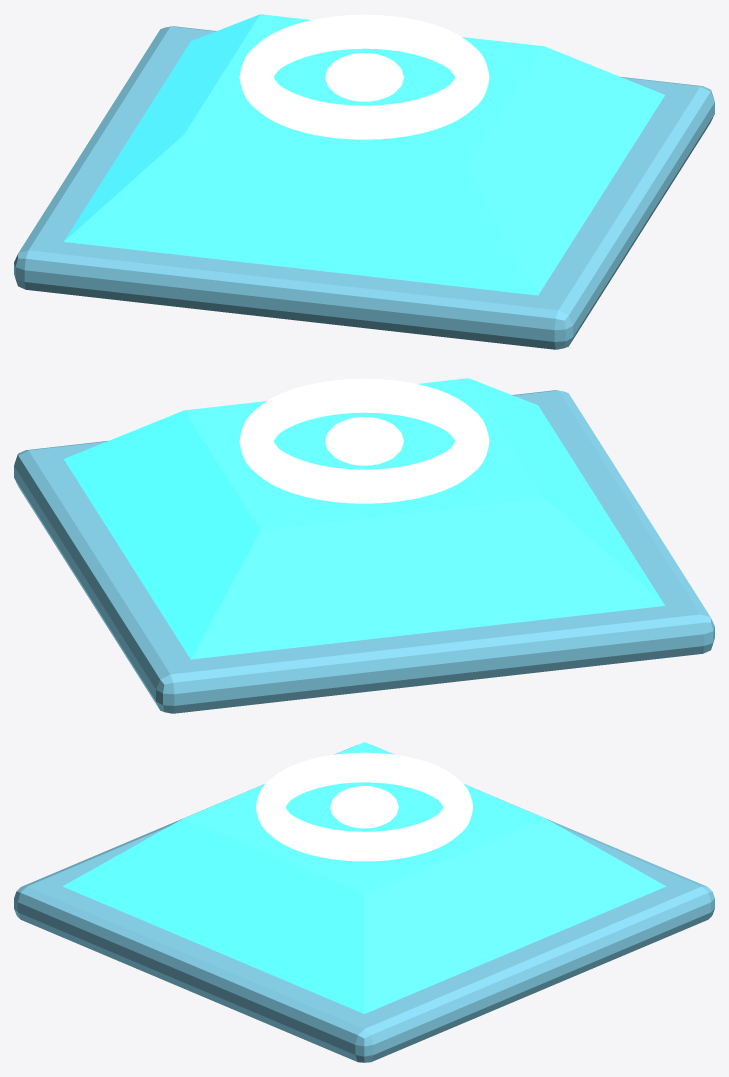
The model's file is SM_Pickup_Shield.fbx.
3 views of the same model, one above another, from view 1: azimuth 30°, elevation 25°; view 2: azimuth 150°, elevation 25°; view 3: azimuth 270°, elevation 25° (orthographic). The views are drawn at different scales.
Visible parts, largest first — view 1: SM_Pickup_Shield; view 2: SM_Pickup_Shield; view 3: SM_Pickup_Shield.
Boxes of the visible parts, x1=… form: SM_Pickup_Shield: x1=14, y1=14, x2=714, y2=349; SM_Pickup_Shield: x1=14, y1=378, x2=714, y2=713; SM_Pickup_Shield: x1=14, y1=742, x2=714, y2=1062.
Bounding box in the file's own units: 1.12 × 0.2775 × 1.12.
